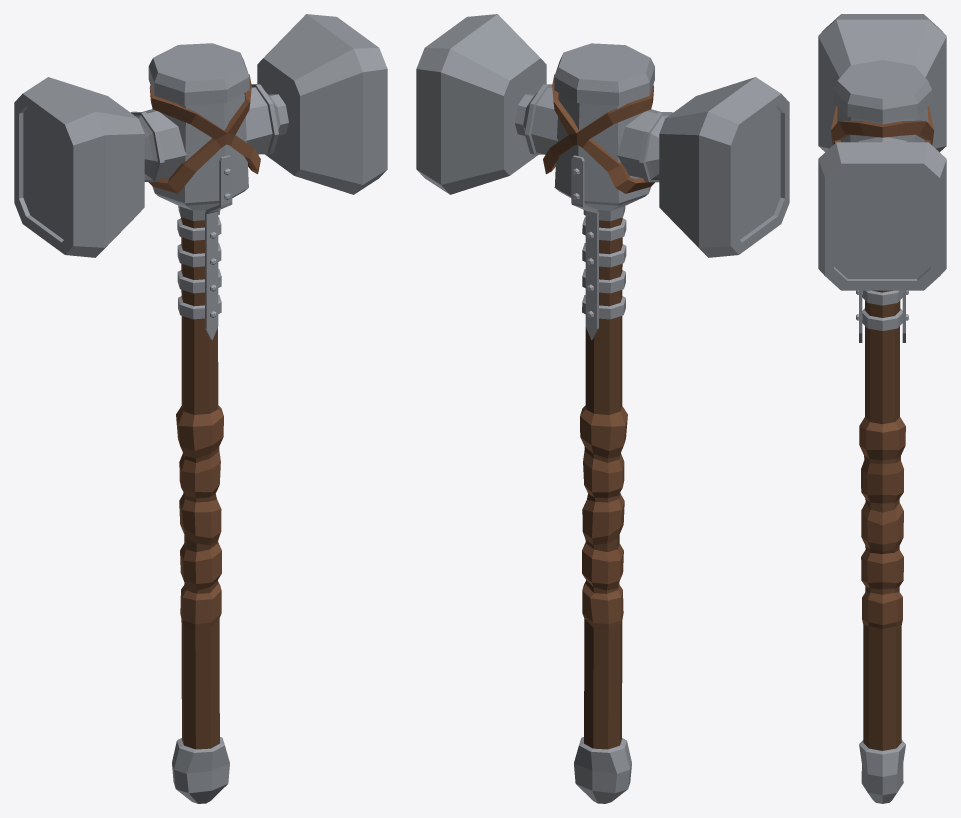
Rendered from Hammer_Double.glb.
3 renders of one model, left to right at view 1: azimuth 30°, elevation 25°; view 2: azimuth 150°, elevation 25°; view 3: azimuth 270°, elevation 25°, orthographic. The views are drawn at different scales.
Parts seen in each view (by area): view 1: Steel, LightWood, DarkWood; view 2: Steel, LightWood, DarkWood; view 3: Steel, LightWood, DarkWood.
Boxes of the visible parts, x1,y1,x2,y2 form: Steel: (14, 14, 387, 803); LightWood: (148, 74, 260, 629); DarkWood: (181, 217, 219, 749); Steel: (416, 14, 789, 803); LightWood: (543, 74, 654, 629); DarkWood: (584, 217, 622, 749); Steel: (818, 14, 946, 803); LightWood: (831, 106, 934, 628); DarkWood: (863, 290, 901, 750).
Size of the model in its own units: 2.22 by 4.97 by 0.8057.
